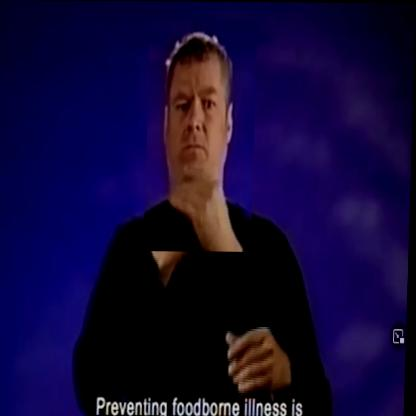Food: (145, 20, 258, 252)
